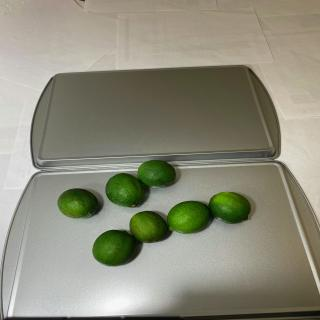Chilli: (56, 159, 252, 267)
Lemon: (92, 230, 137, 266), (167, 200, 210, 234), (208, 191, 251, 224), (105, 173, 144, 208), (57, 188, 99, 219), (129, 211, 168, 243), (137, 160, 176, 188)
